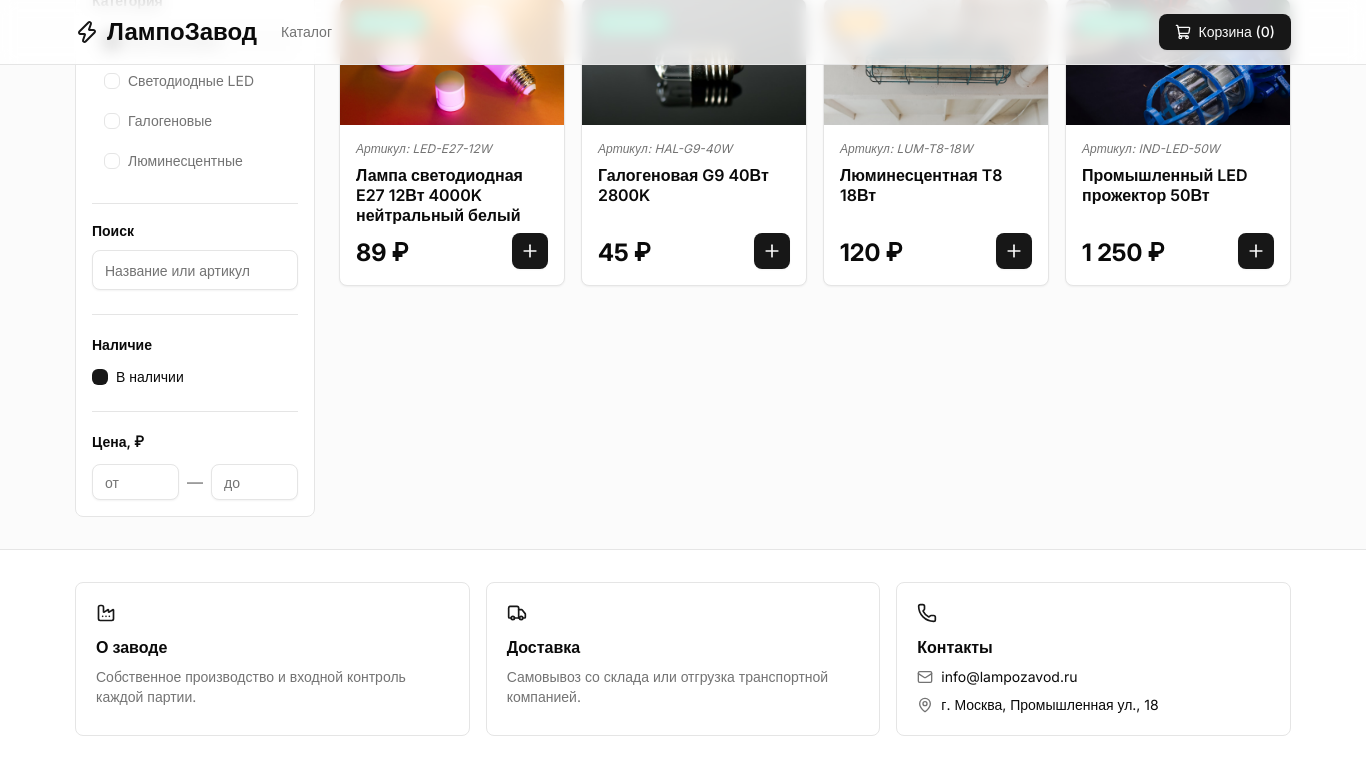
Test: filters catalog by debounced price range
(page scrolled)
Type "100" into the field named "Цена от" at point(136, 482), box 92,464 -> 179,500
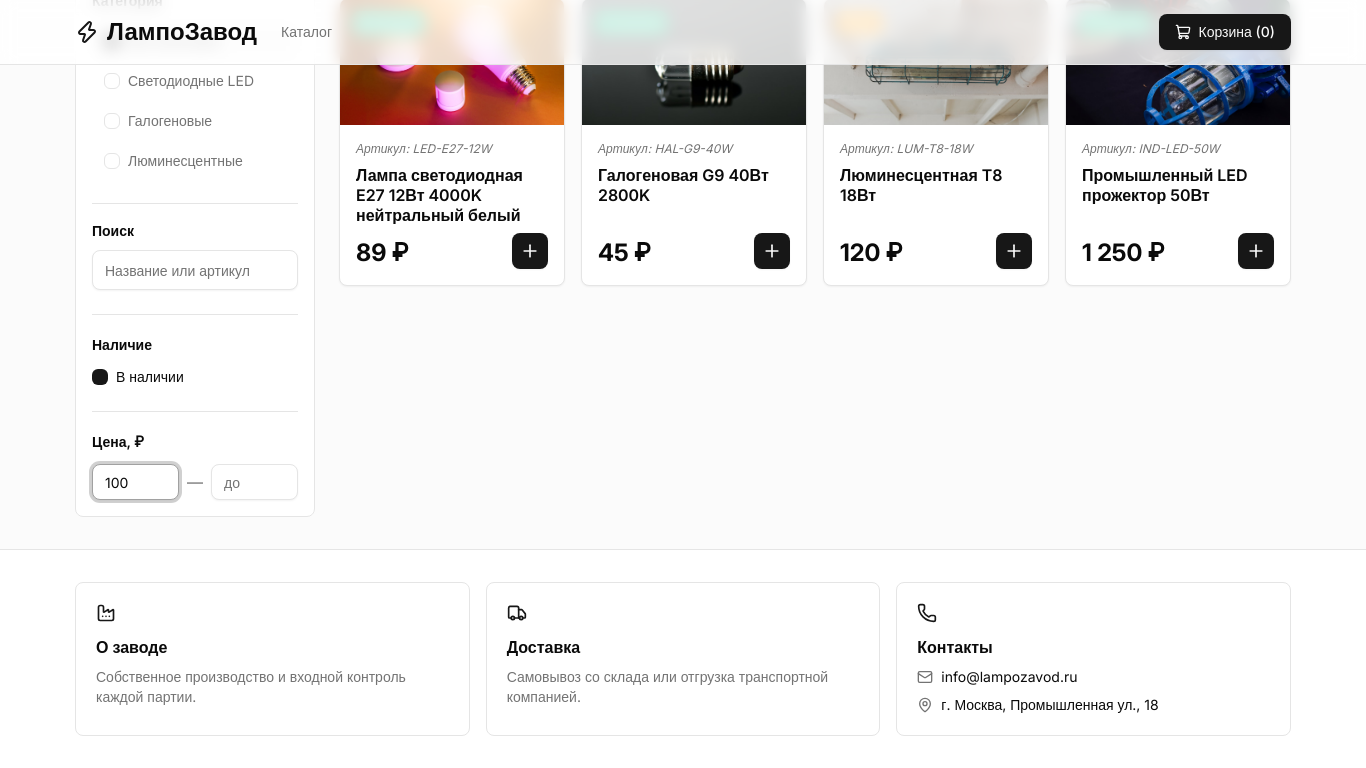
Type "500" into the field named "Цена до" at point(254, 482), box 211,464 -> 298,500
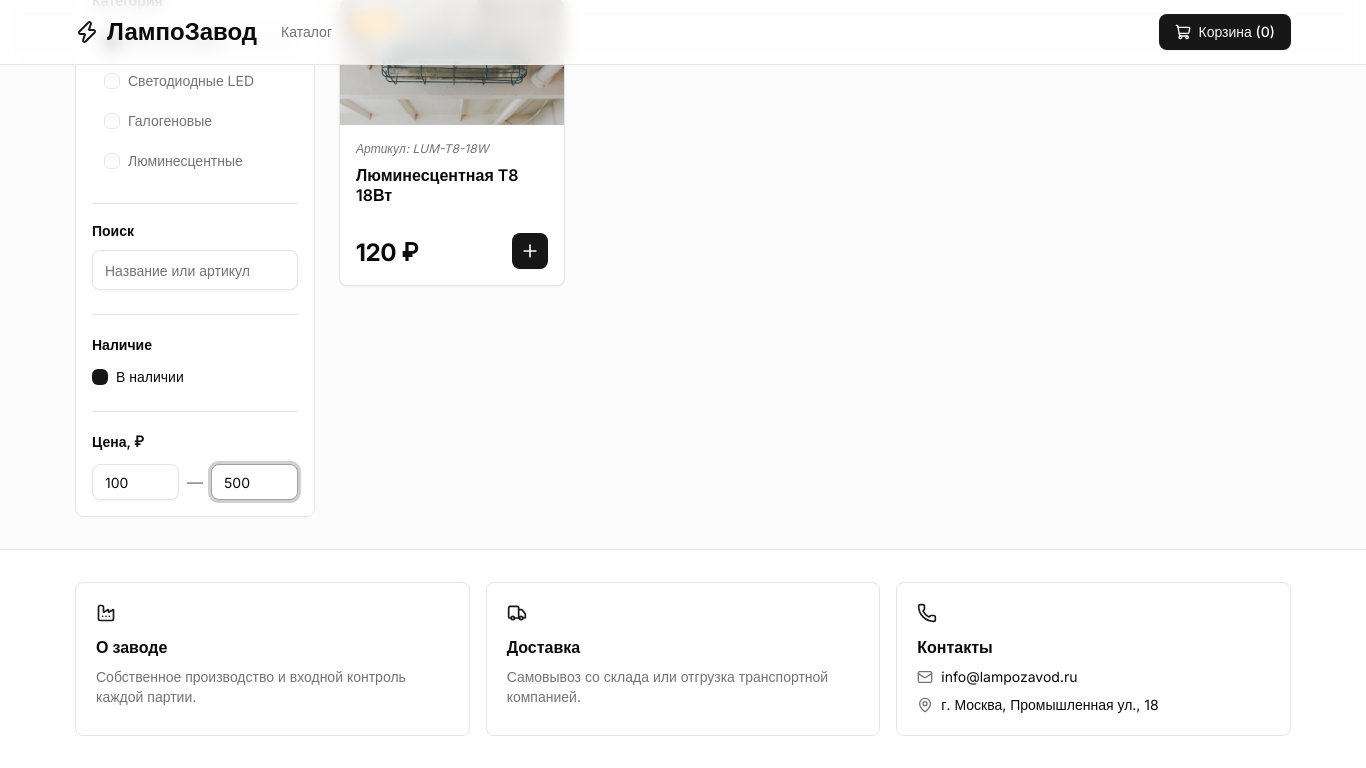
Expected: the link "Люминесцентная T8 18Вт" is shown, 356,165 -> 518,205
Expected: the link "Лампа светодиодная E27 12Вт 4000K нейтральный белый" is gone
Expected: the link "Галогеновая G9 40Вт 2800K" is gone
